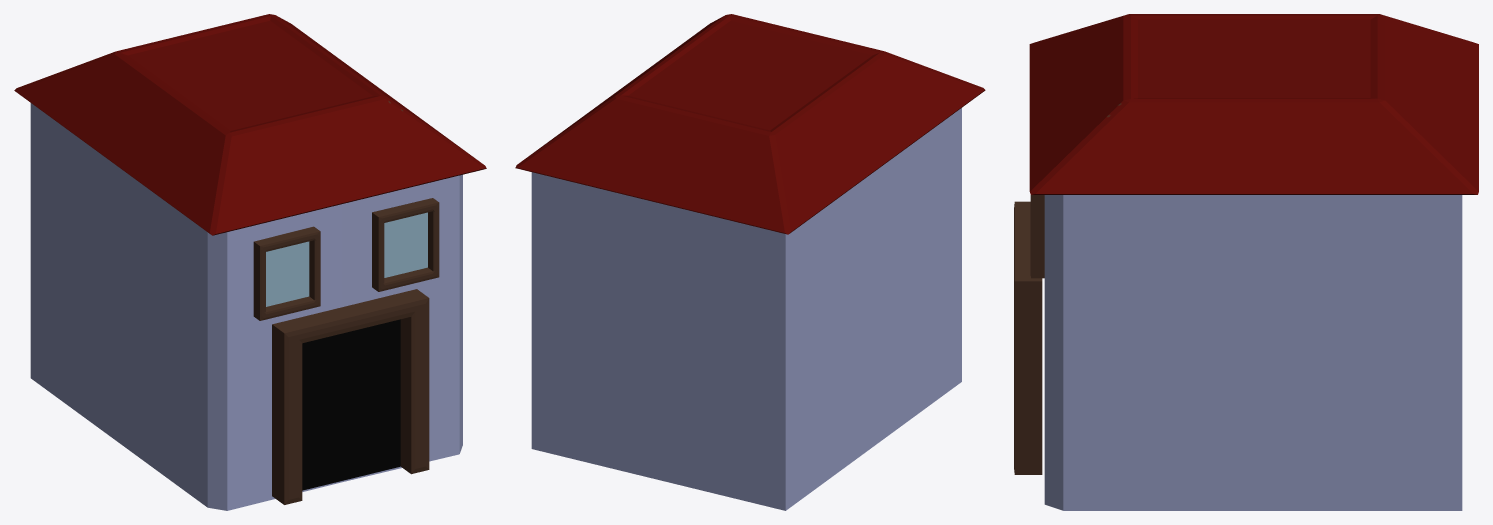
The model's file is House3.fbx.
The picture shows the model from 3 angles, left to right: view 1: azimuth 30°, elevation 25°; view 2: azimuth 150°, elevation 25°; view 3: azimuth 270°, elevation 25°; orthographic projection. The views are drawn at different scales.
Visible parts, largest first — view 1: Cube.007; view 2: Cube.007; view 3: Cube.007.
Boxes of the visible parts, x1,y1,x2,y2 form: Cube.007: (14, 14, 486, 510); Cube.007: (515, 14, 985, 510); Cube.007: (1014, 14, 1478, 510).
Bounding box in the file's own units: 1991 × 2349 × 2580.
1 material, 1 textured.
